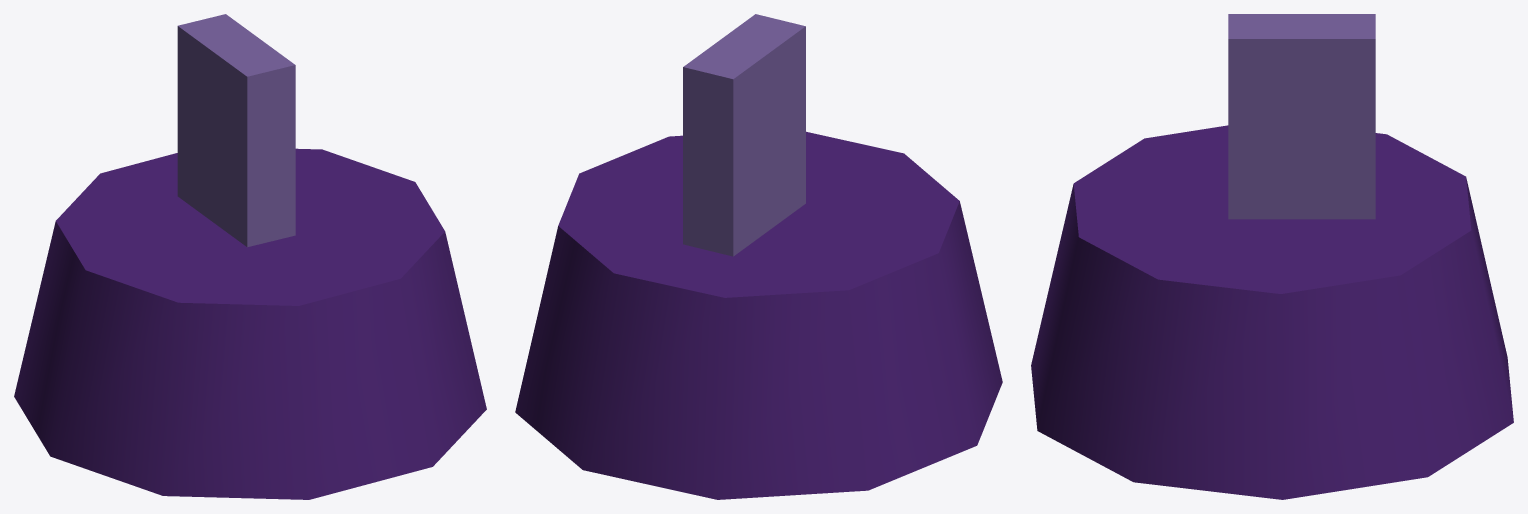
Rendered from head.glb.
The picture shows the model from 3 angles, left to right: view 1: azimuth 30°, elevation 25°; view 2: azimuth 150°, elevation 25°; view 3: azimuth 270°, elevation 25°; orthographic projection. The views are drawn at different scales.
Visible parts, largest first — view 1: helmet, crest; view 2: helmet, crest; view 3: helmet, crest.
Boxes of the visible parts, bbox=[...] form: helmet: bbox=[14, 148, 486, 499]; crest: bbox=[177, 14, 295, 247]; helmet: bbox=[515, 131, 1002, 499]; crest: bbox=[683, 14, 805, 256]; helmet: bbox=[1031, 125, 1513, 499]; crest: bbox=[1228, 14, 1375, 219].
Size of the model in its own units: 0.6794 by 0.55 by 0.6548.
